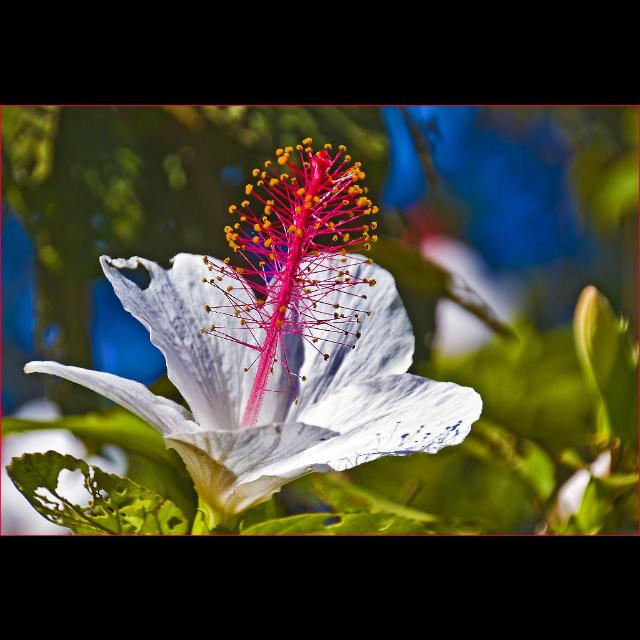Flower: (59, 143, 503, 524)
